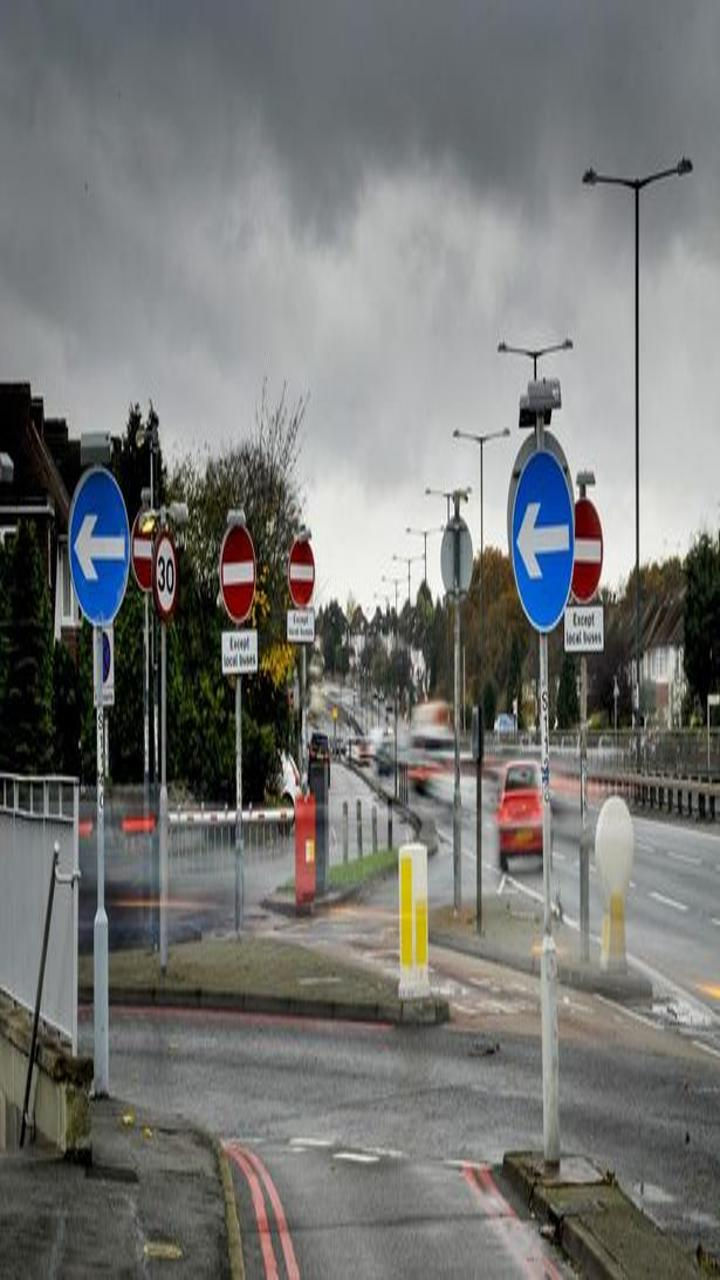Traffic sign: (489, 447, 587, 631), (46, 461, 146, 625), (118, 476, 204, 621), (186, 494, 272, 639), (264, 498, 341, 614), (552, 484, 629, 600)
vehicle: (491, 756, 567, 864)
